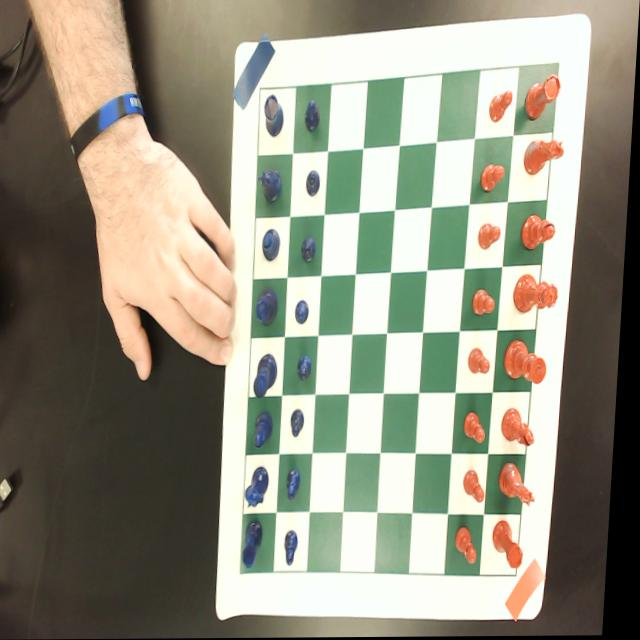B: (259, 412, 279, 448), (265, 228, 284, 263)
K: (257, 353, 283, 401)
N: (250, 466, 276, 511), (258, 169, 285, 204)
P: (305, 99, 323, 134), (290, 530, 306, 568), (294, 409, 311, 439), (292, 469, 307, 501), (303, 236, 319, 264), (307, 170, 323, 198), (301, 356, 317, 383), (299, 300, 314, 326)
Q: (259, 288, 283, 326)
R: (247, 522, 271, 570), (264, 96, 286, 139)
b: (523, 210, 560, 252), (505, 410, 541, 448)
cb: (247, 64, 560, 577)
k: (508, 337, 552, 385)
n: (502, 462, 543, 509), (524, 135, 566, 179)
p: (460, 527, 486, 567), (468, 412, 493, 446), (468, 470, 492, 505), (482, 163, 508, 195), (491, 90, 514, 125), (471, 348, 497, 376), (475, 289, 500, 317), (479, 224, 504, 252)
q: (516, 273, 563, 315)
r: (525, 73, 563, 122), (498, 520, 532, 570)
